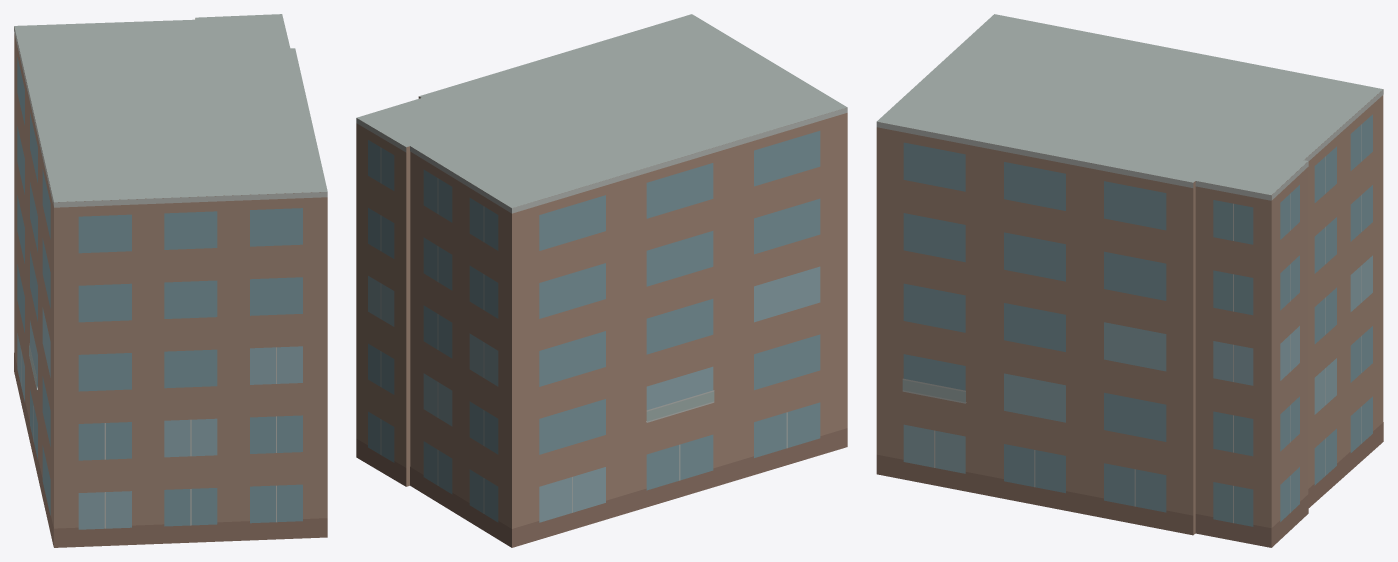
File: survey-upis-32903530.glb
3 renders of one model, left to right at view 1: azimuth 30°, elevation 25°; view 2: azimuth 150°, elevation 25°; view 3: azimuth 270°, elevation 25°, orthographic. The views are drawn at different scales.
Parts seen in each view (by area): view 1: survey-upis-32903530.tmp; view 2: survey-upis-32903530.tmp; view 3: survey-upis-32903530.tmp.
Boxes of the visible parts, x1=… form: survey-upis-32903530.tmp: x1=14, y1=14, x2=327, y2=547; survey-upis-32903530.tmp: x1=356, y1=14, x2=847, y2=547; survey-upis-32903530.tmp: x1=876, y1=14, x2=1383, y2=547.
Size of the model in its own units: 17.1 by 15.5 by 20.2.
